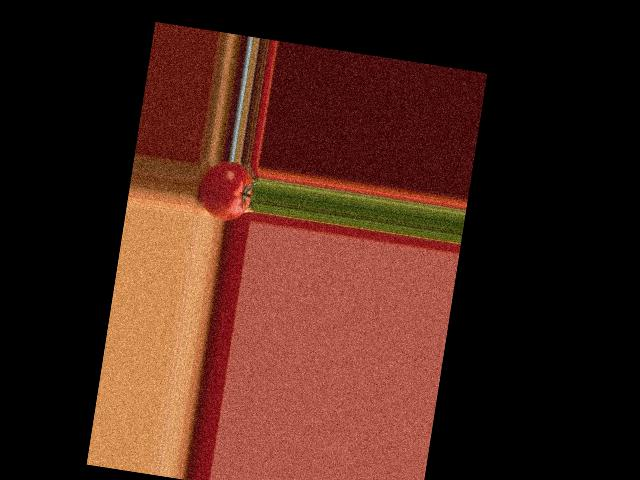tomato: (196, 158, 255, 224)
